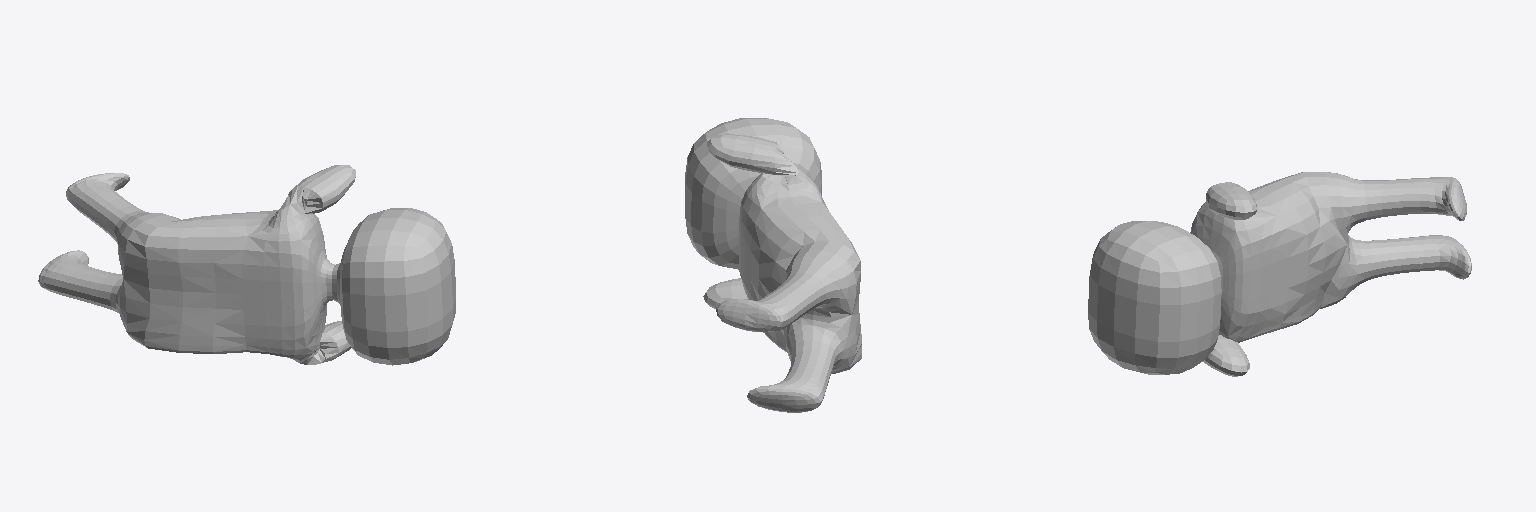
File: antman_push_7.obj
The picture shows the model from 3 angles: view 1: azimuth 30°, elevation 25°; view 2: azimuth 150°, elevation 25°; view 3: azimuth 270°, elevation 25°; orthographic projection.
Visible parts, largest first — view 1: Cube; view 2: Cube; view 3: Cube.
Part boxes in pixels (bbox=[...]): Cube: bbox=[38, 165, 455, 365]; Cube: bbox=[685, 118, 861, 412]; Cube: bbox=[1088, 172, 1471, 376].
Bounding box in the file's own units: 1.33 × 0.8339 × 1.64.